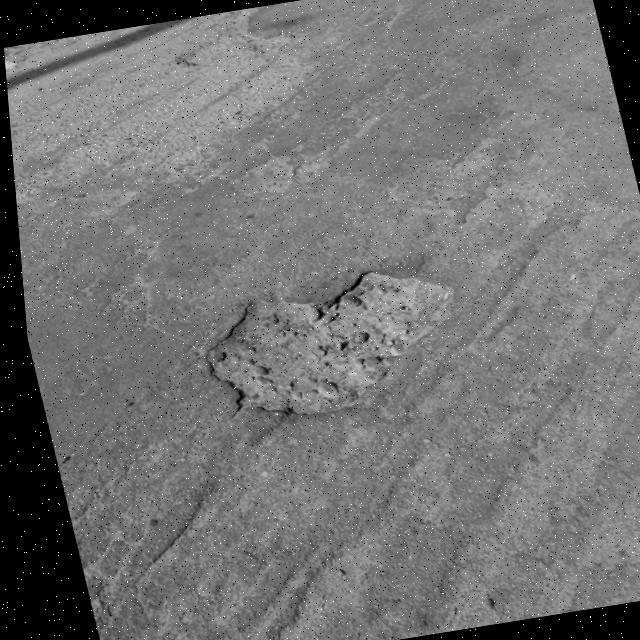pothole: (176, 250, 474, 436)
